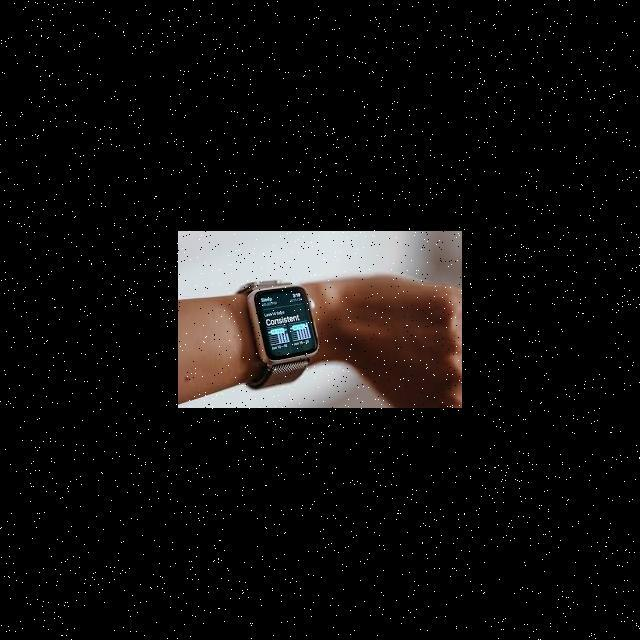watch: (222, 263, 348, 415)
